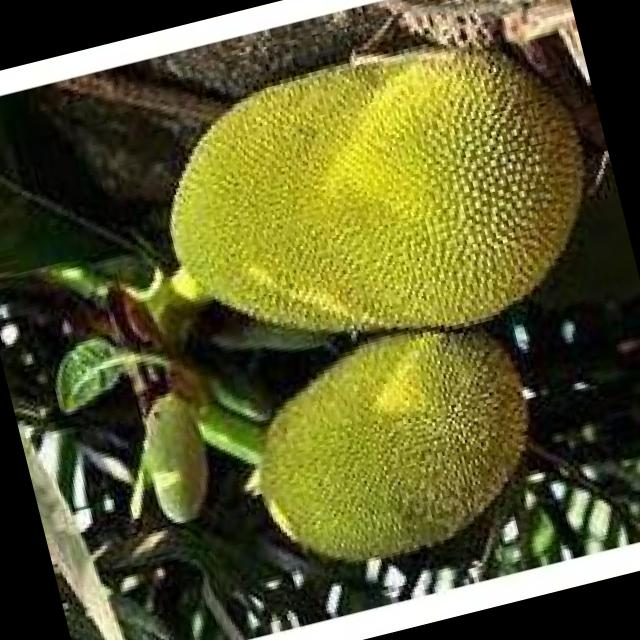Fruit: (101, 0, 640, 453), (203, 264, 603, 620)
